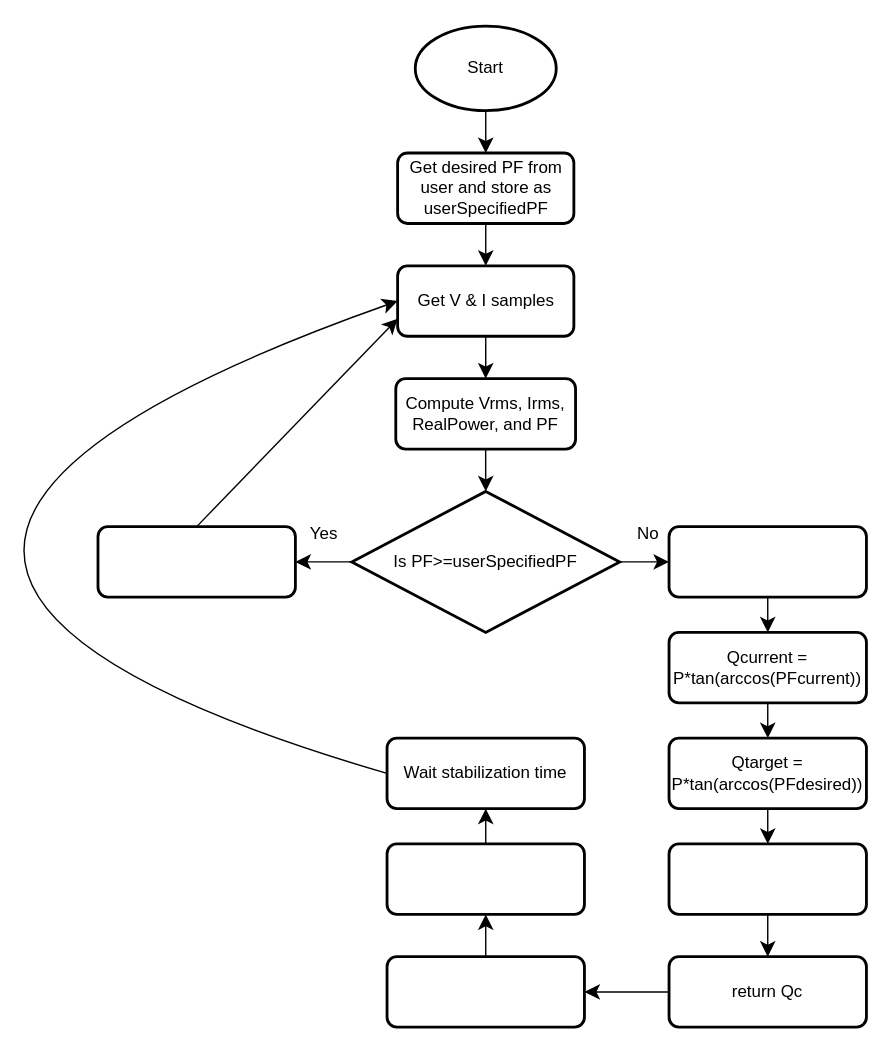
Image size: 893x1052. Some labels were removed from this diagram. The centre of each missing label's shape, as x and y in pixels:
"Determine best capacitor bank combination" belongs at point 485,991.
"Do nothing, statusLED = GREEN" belongs at point 196,561.
"P = Vrms*Irms*PF" belongs at point 767,561.
"Qc = Qcurrent - Qtarget" belongs at point 767,878.
"Switch relays" belongs at point 485,878.
